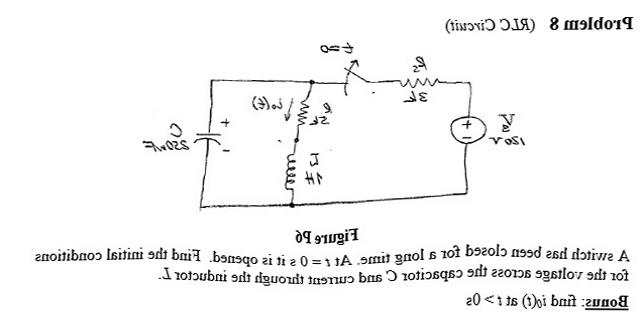Battery: (441, 103, 490, 151)
